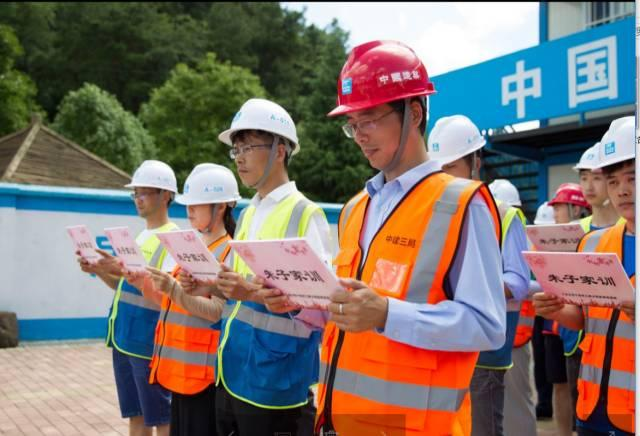helmet: (328, 38, 438, 120), (224, 92, 307, 146), (427, 111, 488, 169), (179, 158, 236, 210), (600, 118, 640, 168), (130, 156, 180, 191), (484, 177, 522, 206), (550, 184, 593, 207), (576, 146, 605, 174)
